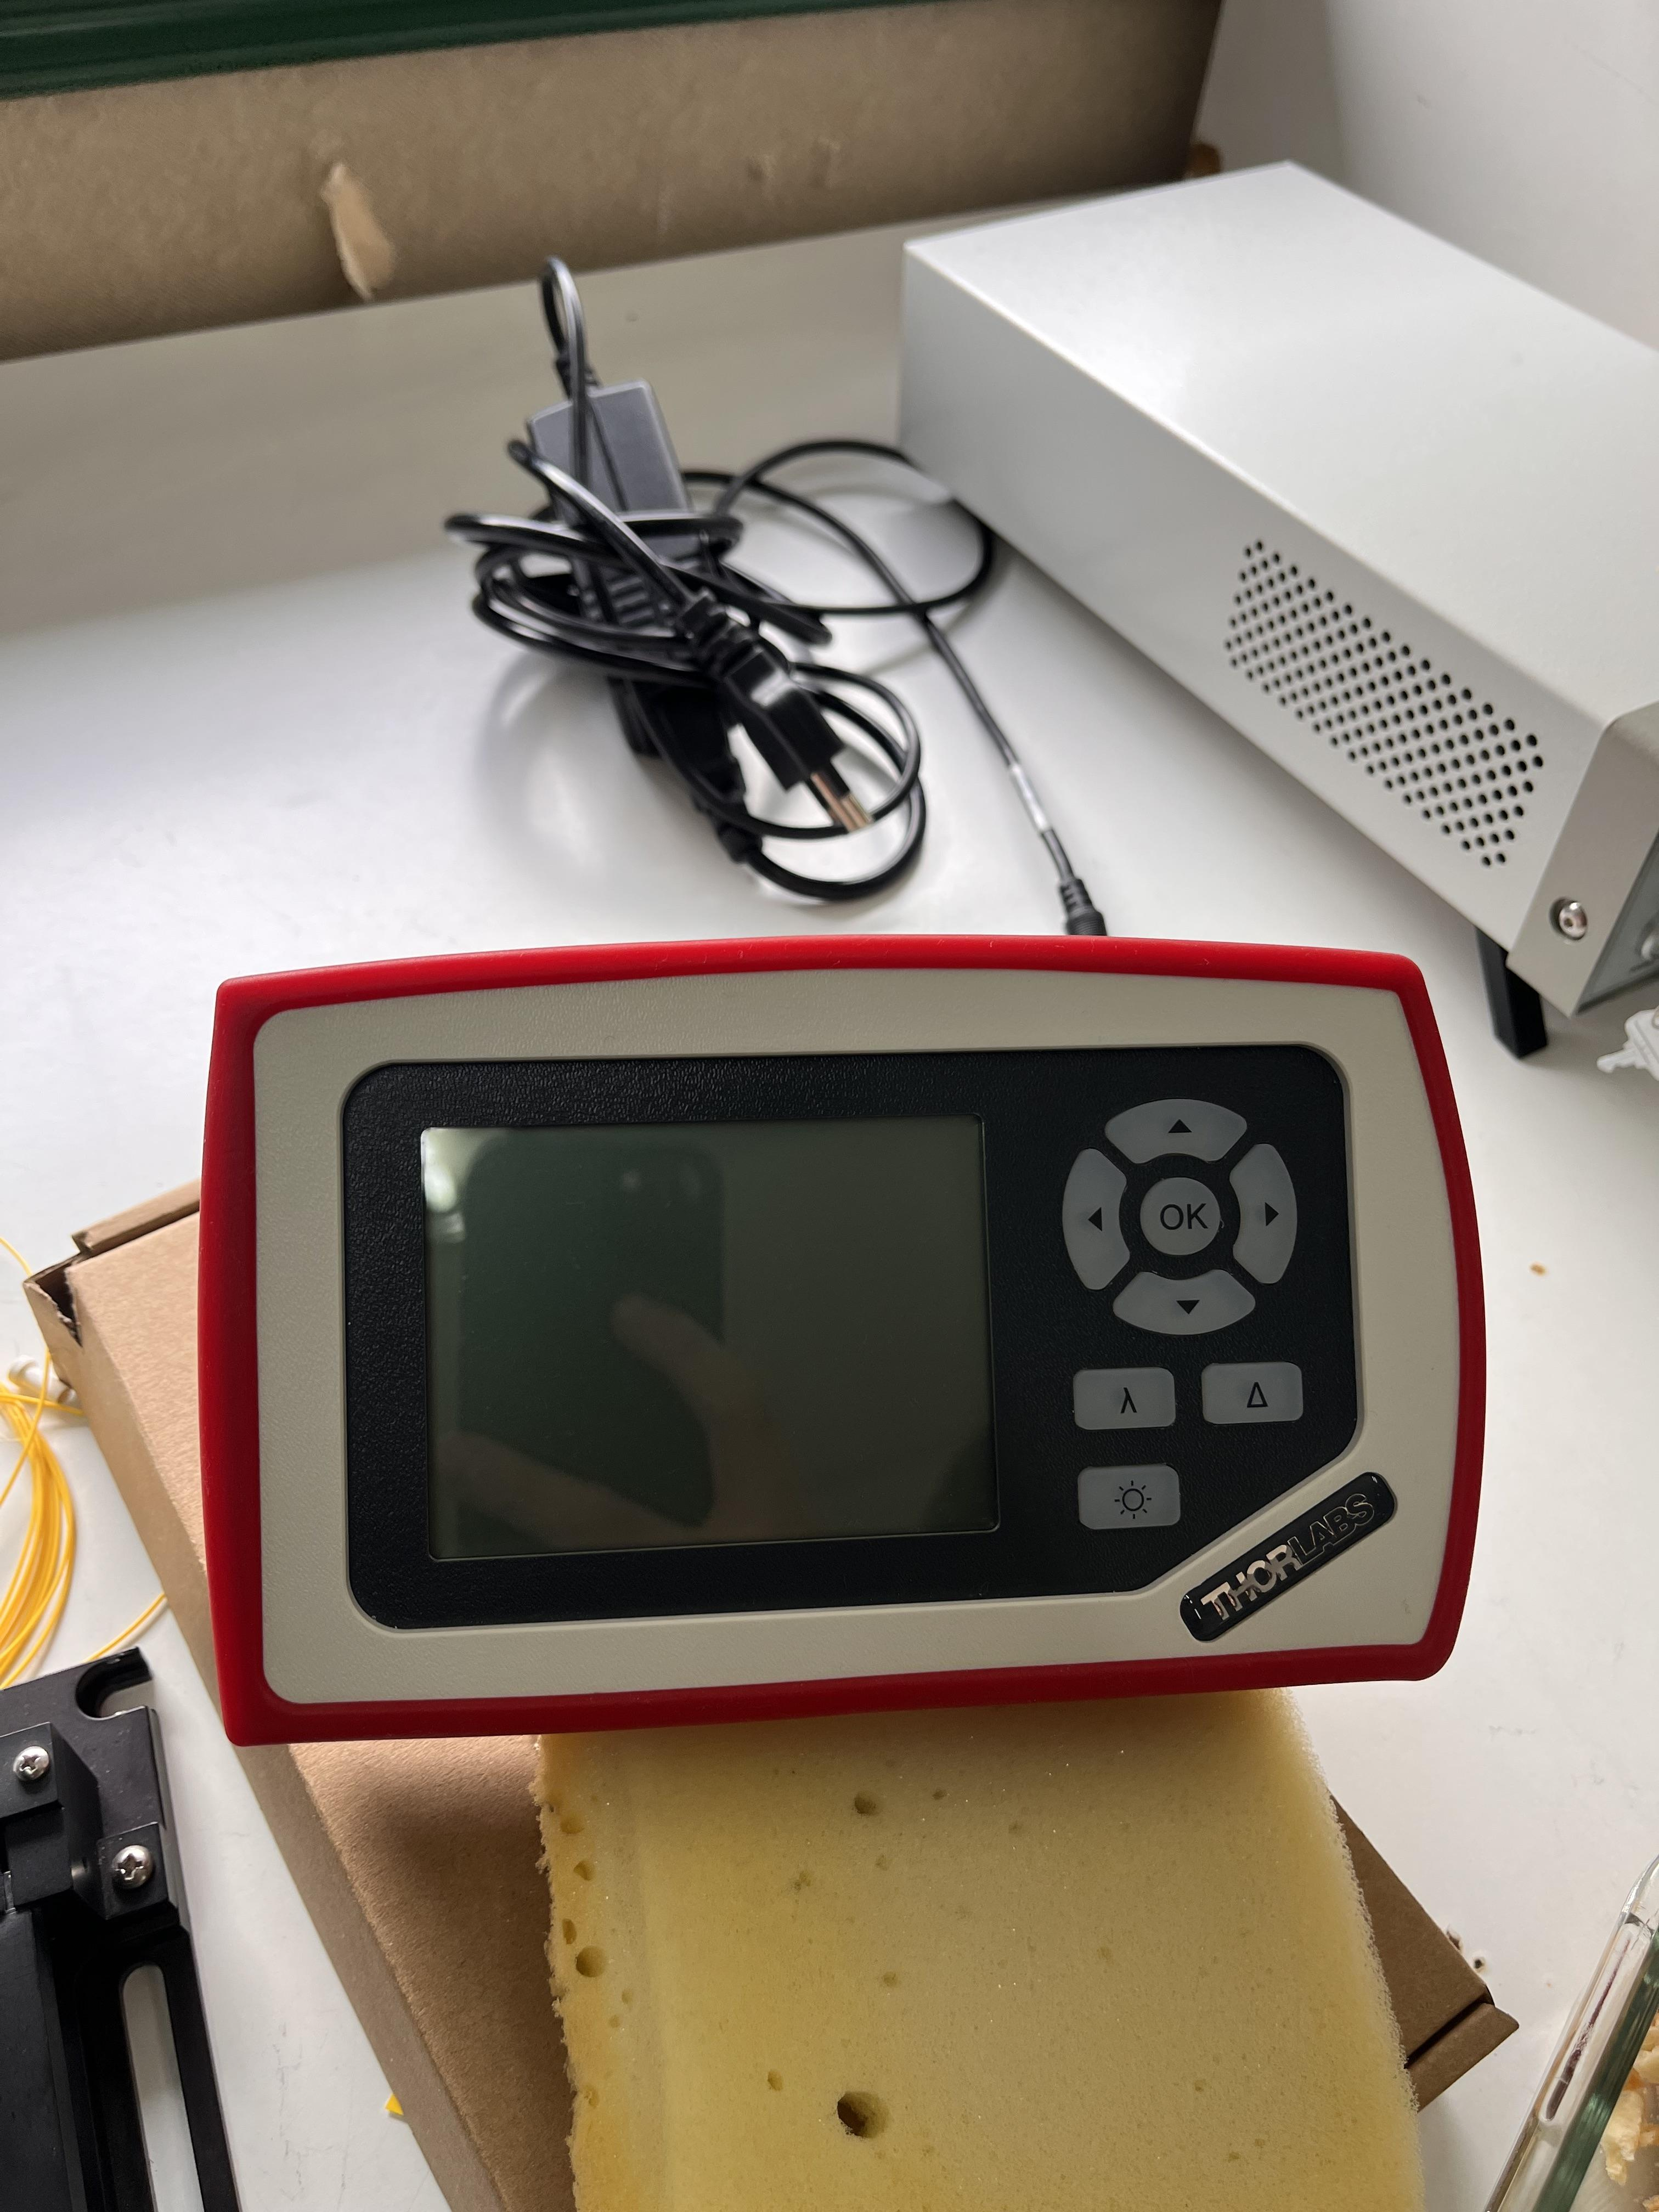powermeter: (173, 935, 1514, 1770)
